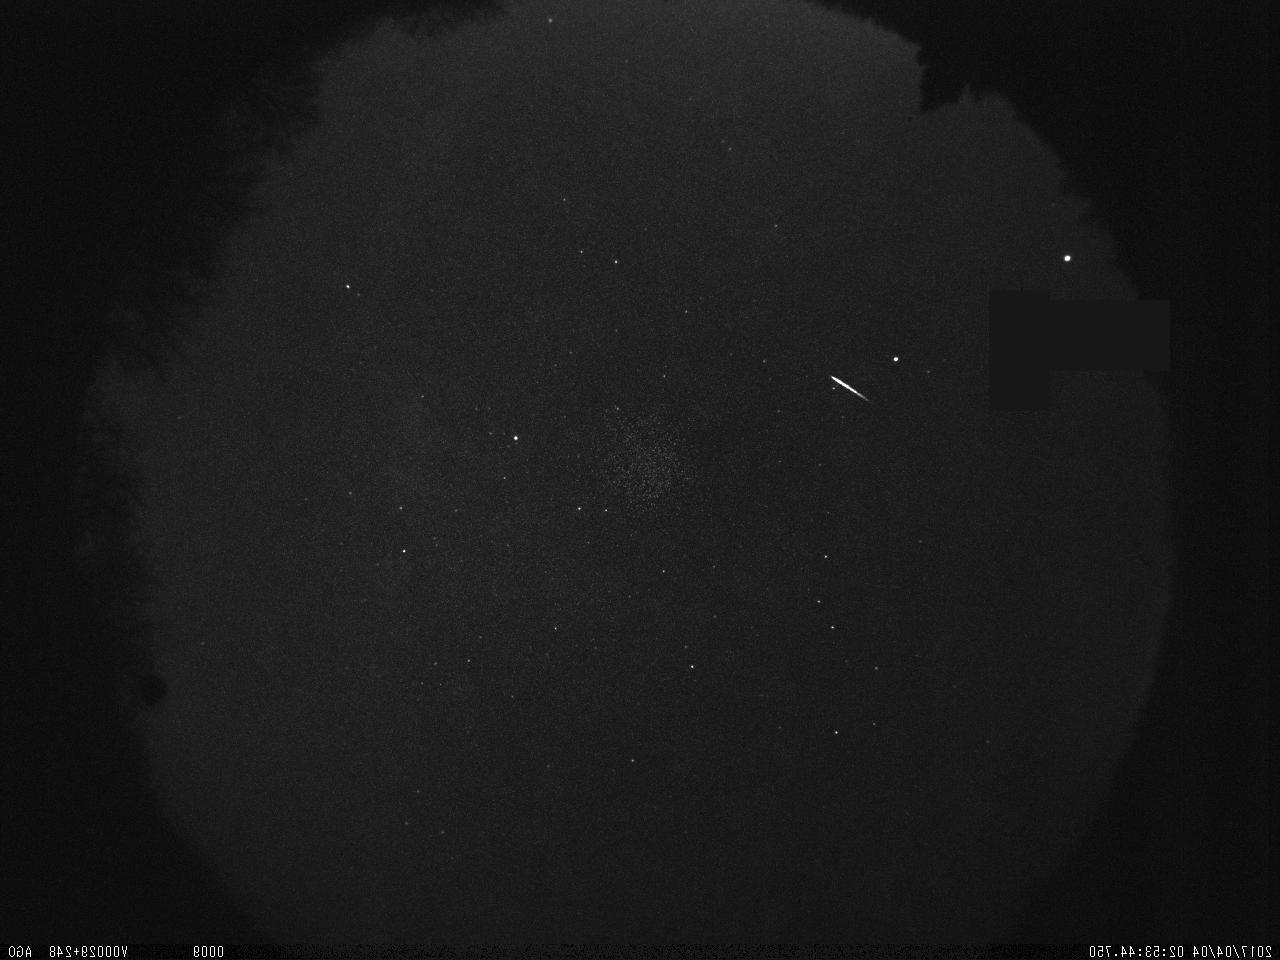meteor: (807, 362, 886, 425)
